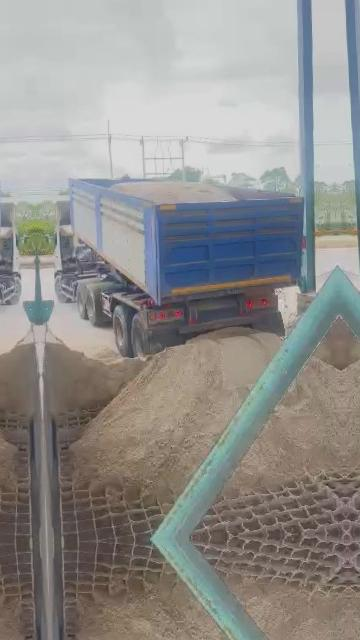sand: (72, 329, 279, 500), (226, 357, 345, 491), (46, 336, 144, 416), (112, 180, 234, 204), (315, 316, 341, 370), (278, 286, 299, 335)
